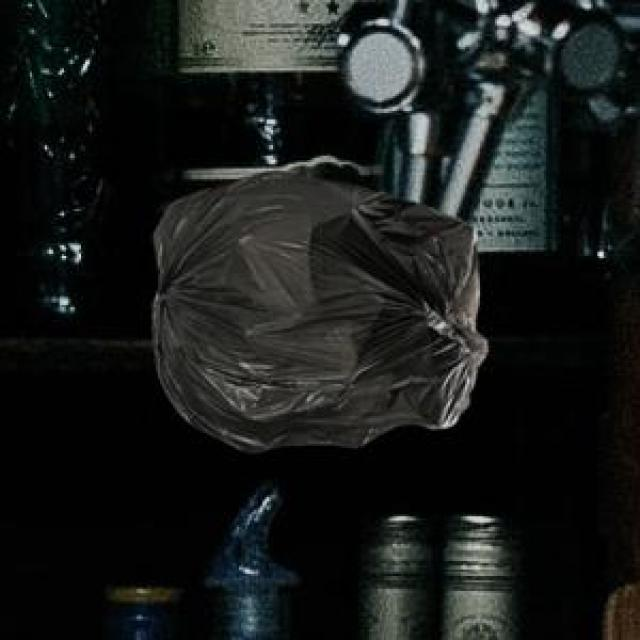Trashbag: (140, 164, 492, 460)
